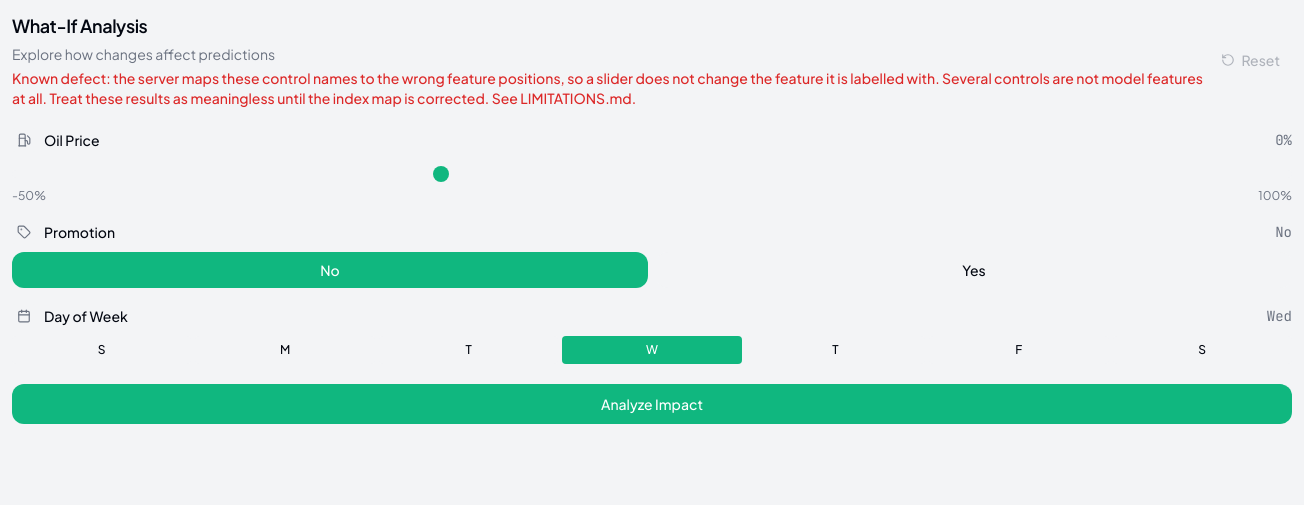
WhatIfAnalysis › displays error message when API fails
The width and height of the screenshot is (1304, 505).
Click the button "Analyze Impact". click: (652, 404)
box: [12,384,1292,424]
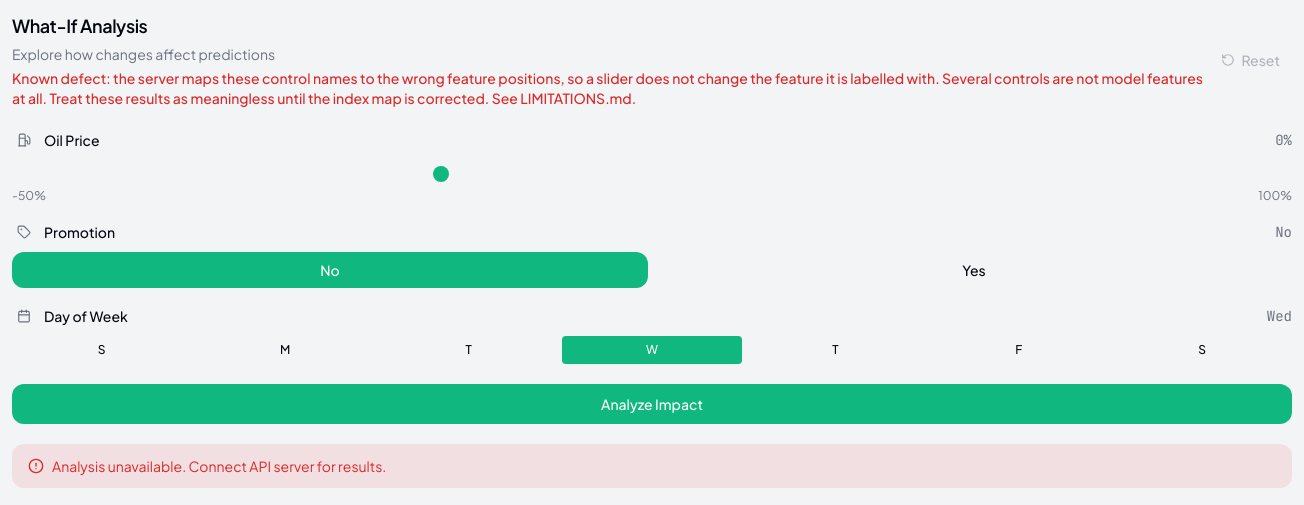
Result: the text "Analysis unavailable. Connect API server for results." is shown at [52,456,386,476]
